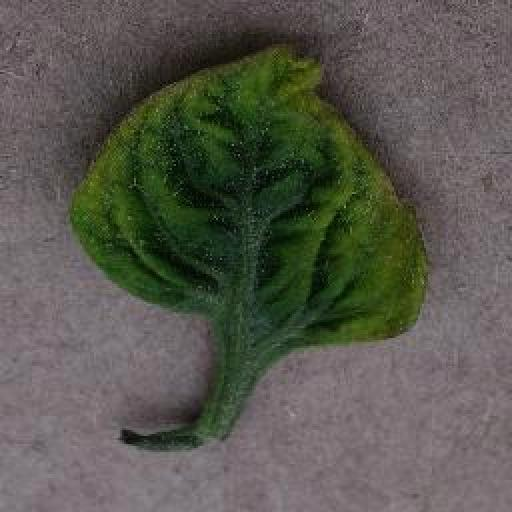disease_tomato: (66, 44, 424, 350)
